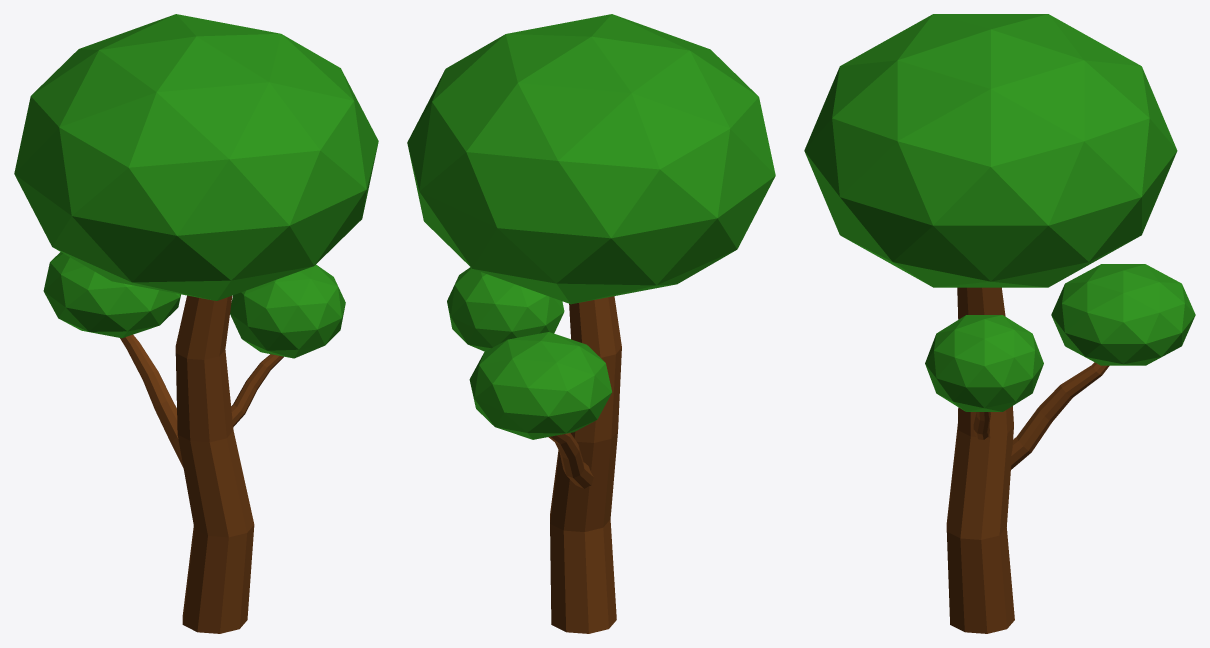
Rendered from Tree2.fbx.
The picture shows the model from 3 angles, left to right: view 1: azimuth 30°, elevation 25°; view 2: azimuth 150°, elevation 25°; view 3: azimuth 270°, elevation 25°; orthographic projection.
Parts seen in each view (by area): view 1: tree.002; view 2: tree.002; view 3: tree.002.
Boxes of the visible parts, box(x1,y1,x2,y2) form: tree.002: box(14, 14, 378, 633); tree.002: box(407, 14, 775, 633); tree.002: box(804, 14, 1195, 633).
Size of the model in its own units: 834 by 1515 by 920.
